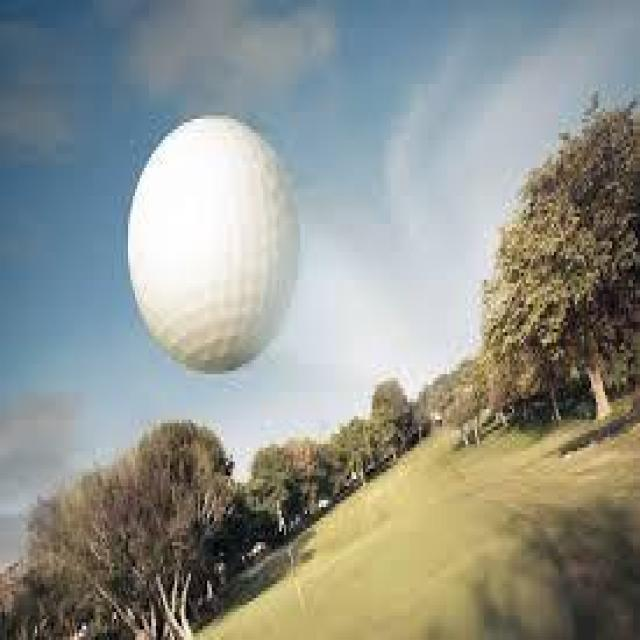ball: (124, 107, 307, 380)
